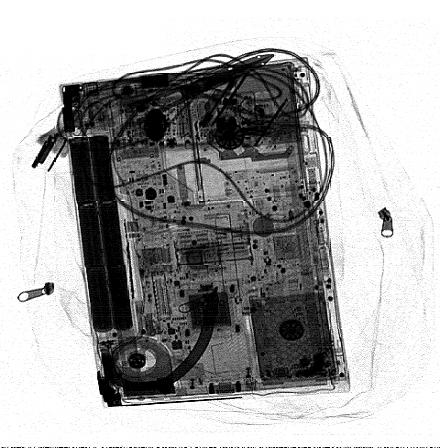Scissors: (125, 56, 275, 126)
